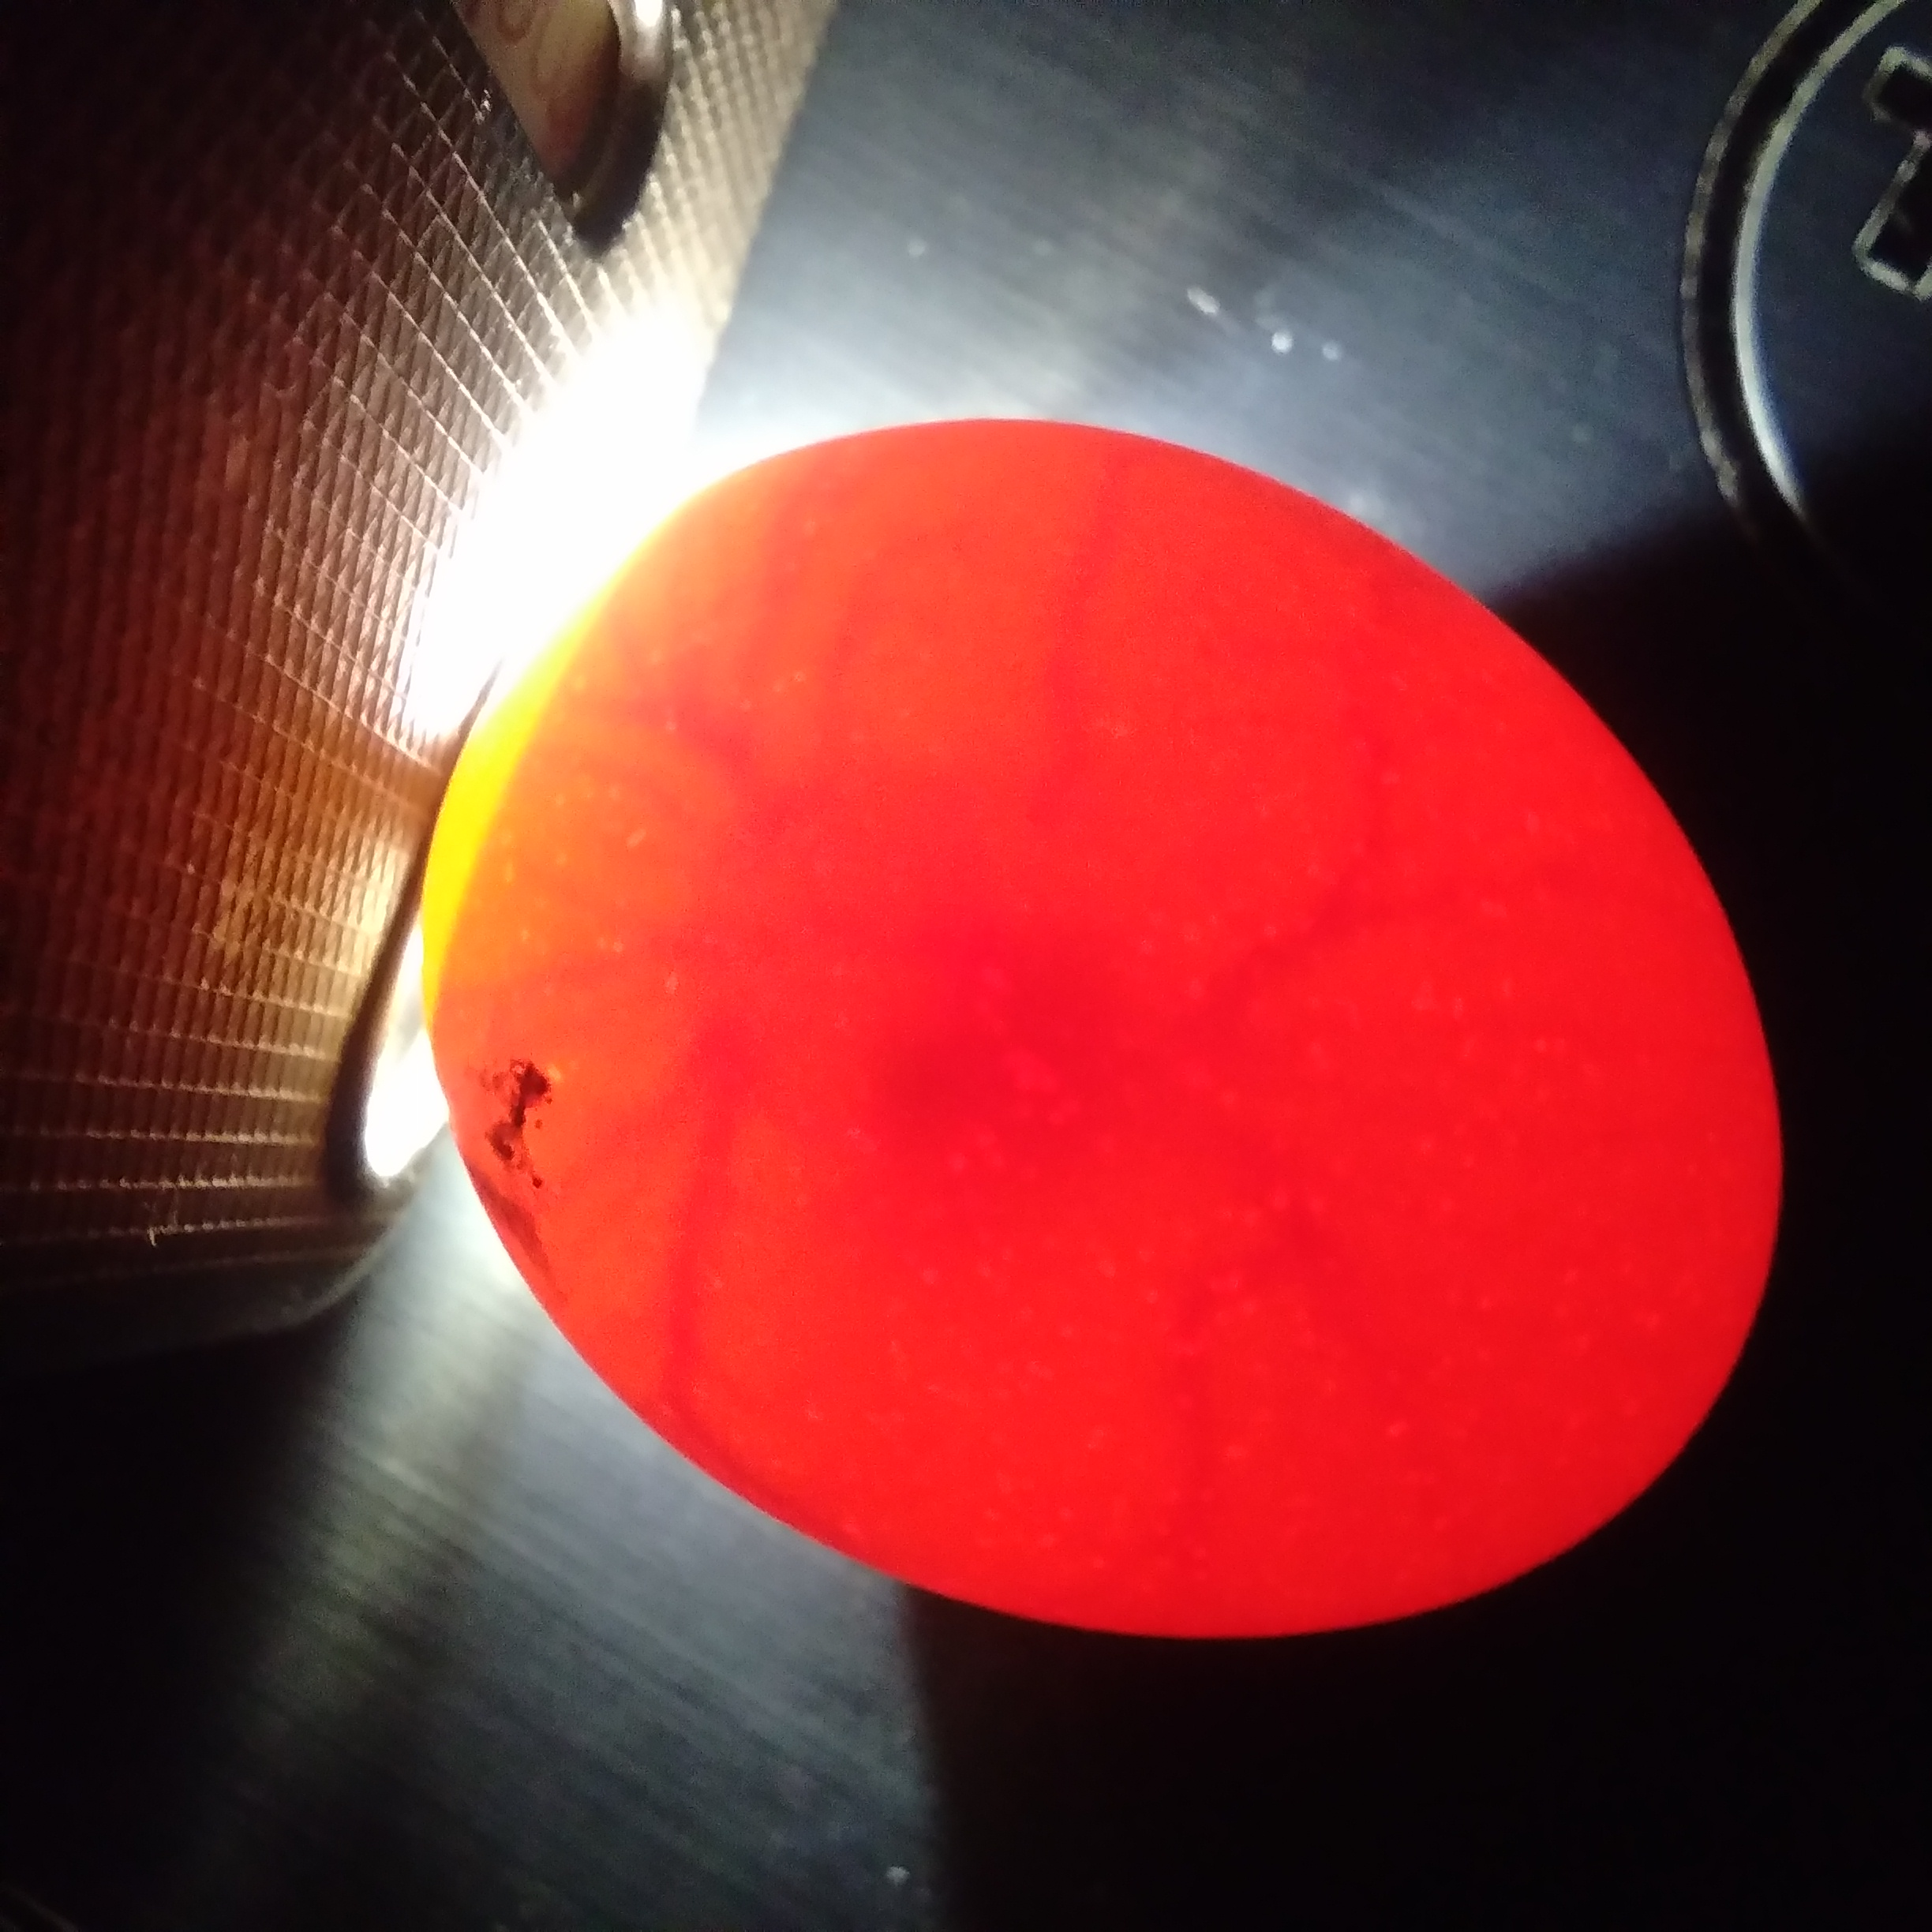bloodcell: (656, 584, 1154, 740), (522, 987, 782, 1260)
embryo: (685, 770, 952, 957)
